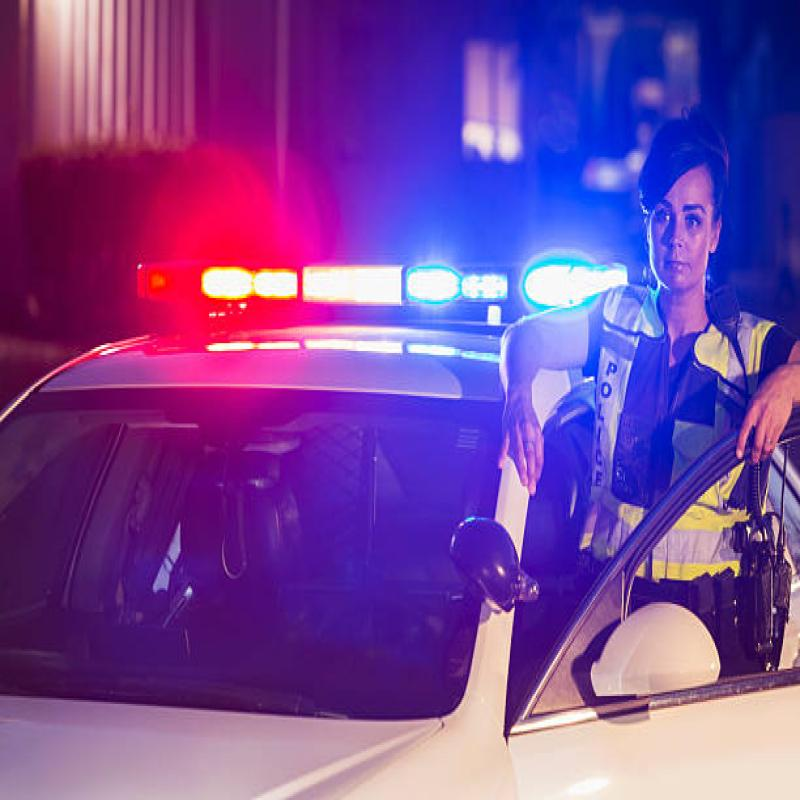AmbulanceSiren: (149, 239, 638, 336)
